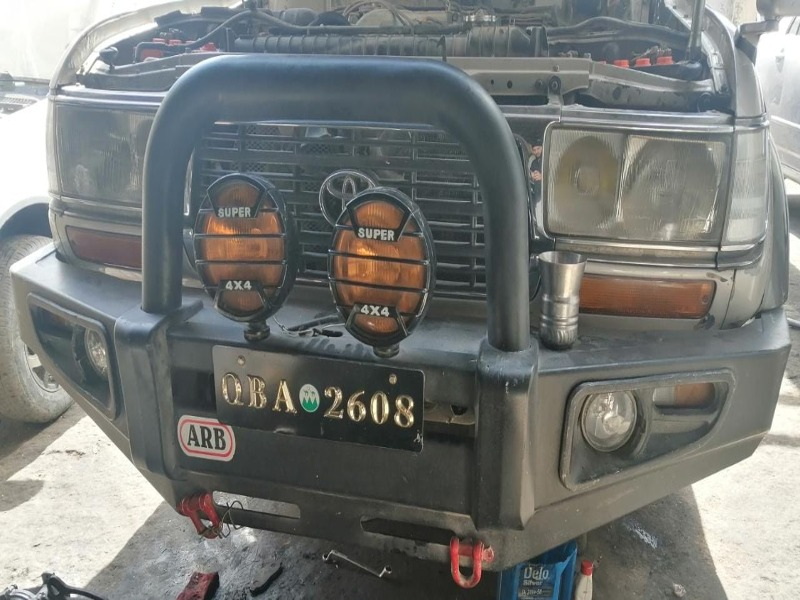License Plate: (206, 341, 429, 456)
